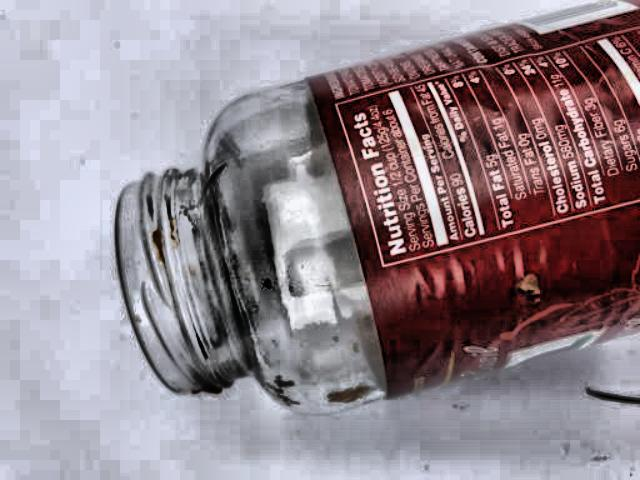Almennt: (93, 0, 640, 418)
